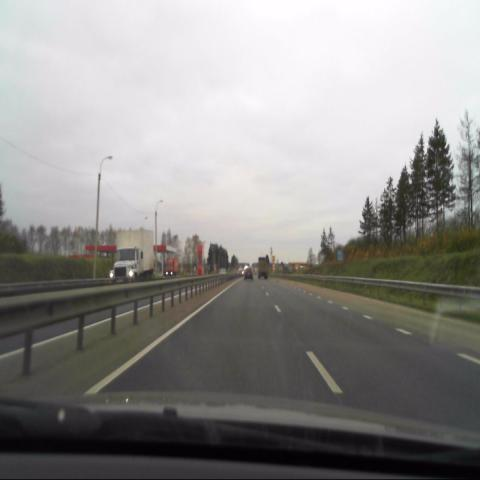5_15_5: (336, 248, 344, 263)
